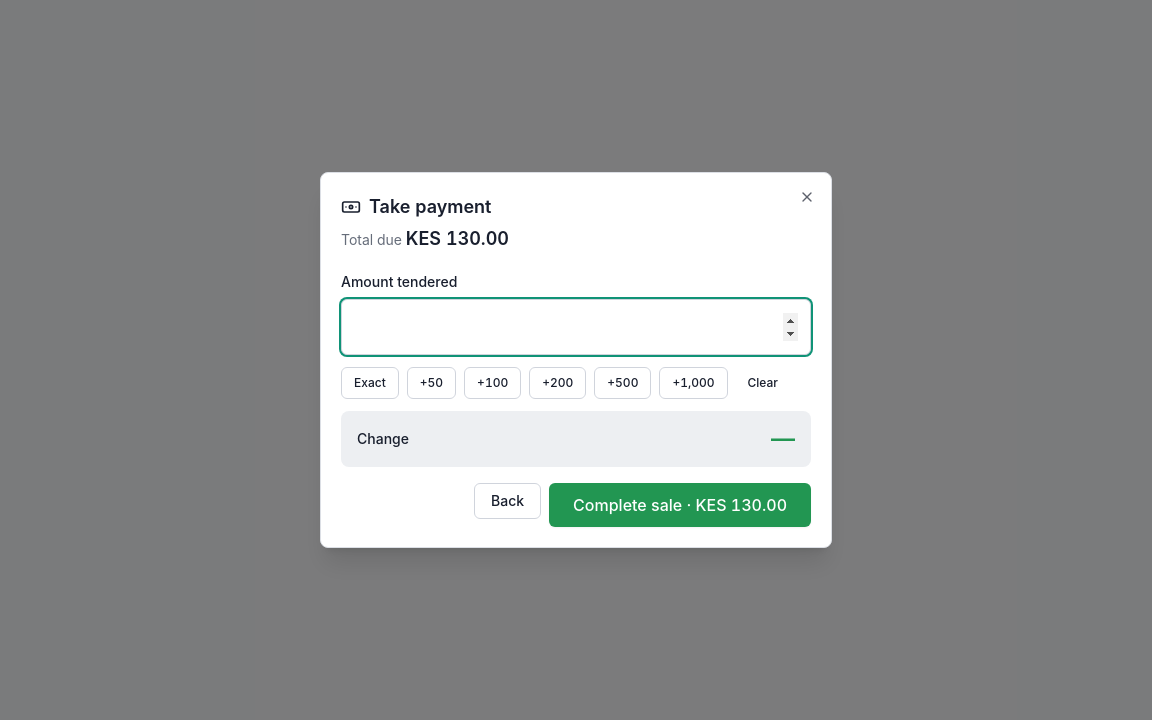
Test: payment conflicts › shows a stock shortfall, keeps the cart and re-prices it
In the number field labelled "Amount tendered": (576, 327) [341, 299, 811, 355], type "200"
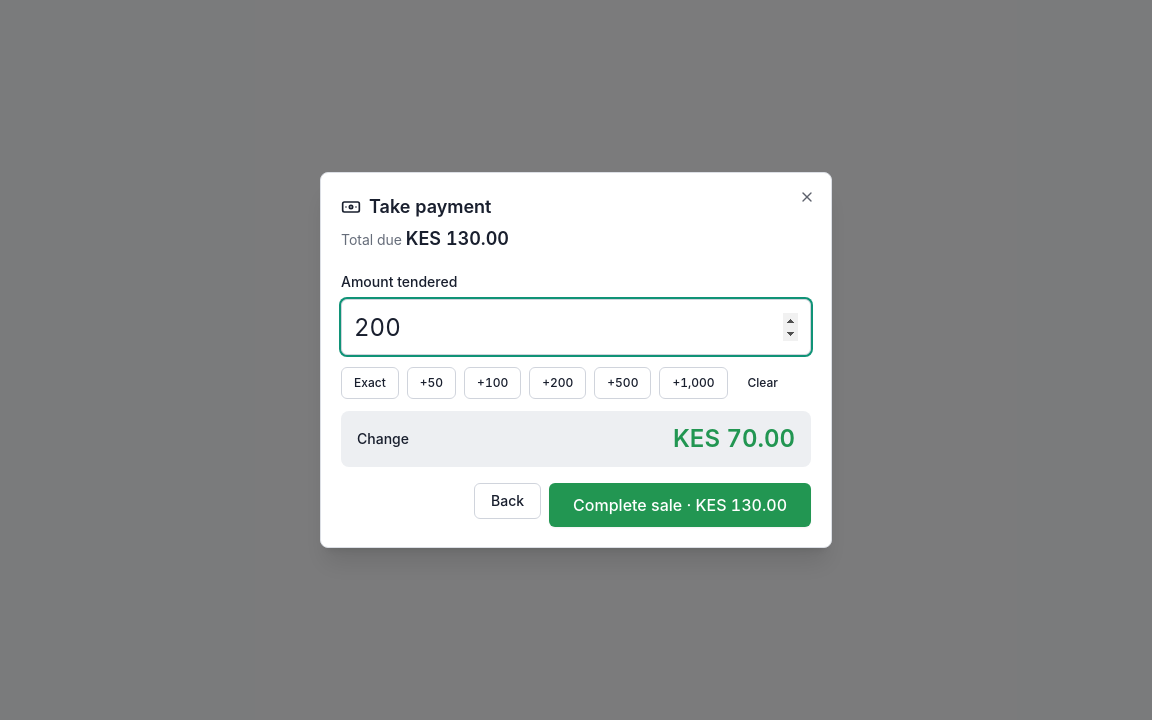
Click the button "Complete sale · KES 130.00": (680, 505) [549, 483, 811, 527]
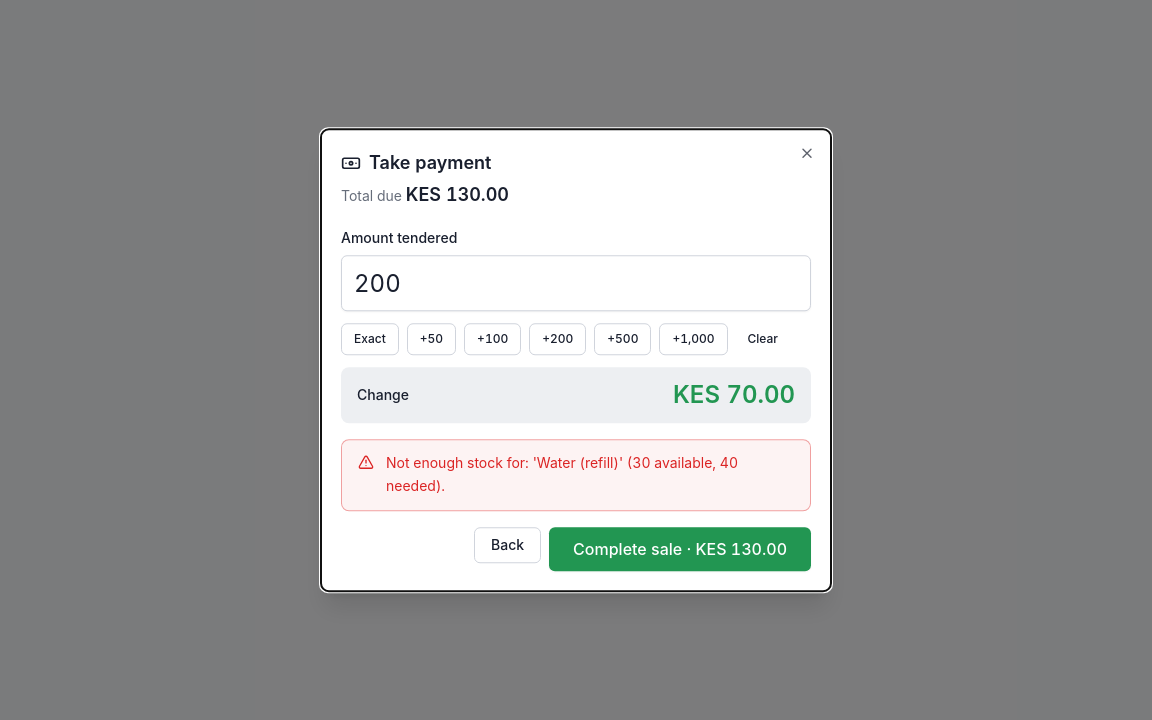
Result: the text "30 available, 40 needed" is shown at [386, 454, 738, 494]
